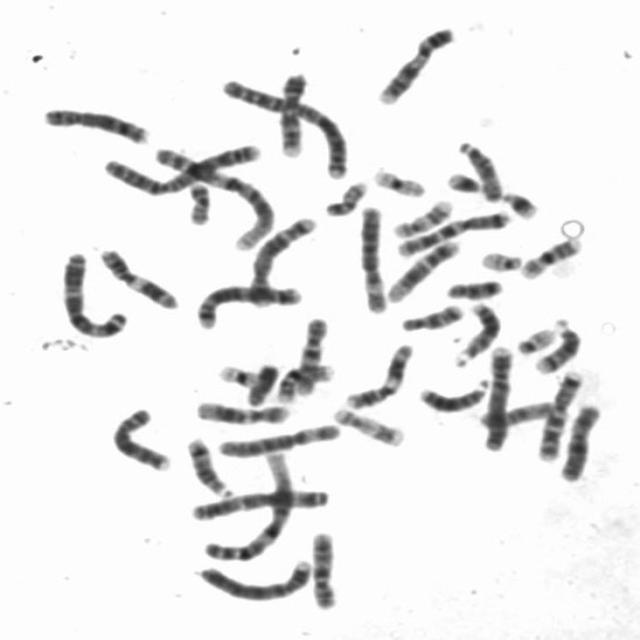A1: (146, 138, 277, 252), (196, 444, 297, 564)
A2: (214, 72, 352, 180), (96, 134, 264, 198)
A3: (52, 243, 130, 340), (183, 482, 333, 522)
B4: (188, 551, 317, 603), (476, 340, 516, 453)
B5: (241, 209, 320, 308), (188, 278, 306, 330)
C10: (288, 310, 330, 398), (303, 524, 341, 611)
C11: (90, 240, 182, 311), (337, 336, 417, 411)
C12: (378, 232, 462, 303), (187, 394, 293, 426)
C6: (210, 415, 345, 459), (352, 197, 391, 314)
C7: (389, 203, 514, 259), (530, 362, 589, 462)
C8: (34, 100, 152, 146), (103, 400, 173, 473)
C9: (369, 19, 458, 106), (271, 65, 312, 158)
D13: (445, 295, 503, 367), (411, 372, 493, 414)
D14: (178, 429, 234, 499), (526, 311, 585, 375)
D15: (450, 133, 506, 203), (471, 393, 558, 430)
E16: (512, 230, 585, 280), (268, 357, 338, 403)
E17: (324, 399, 408, 448), (384, 192, 456, 239)
E18: (394, 297, 466, 333), (438, 272, 506, 300)
F19: (364, 162, 428, 198), (209, 358, 262, 388)
F20: (317, 174, 370, 218), (177, 176, 215, 226)
G21: (494, 183, 542, 220), (438, 164, 483, 195)
G22: (508, 320, 558, 356), (473, 243, 526, 273)
X: (551, 396, 605, 482)
Y: (238, 357, 282, 407)
